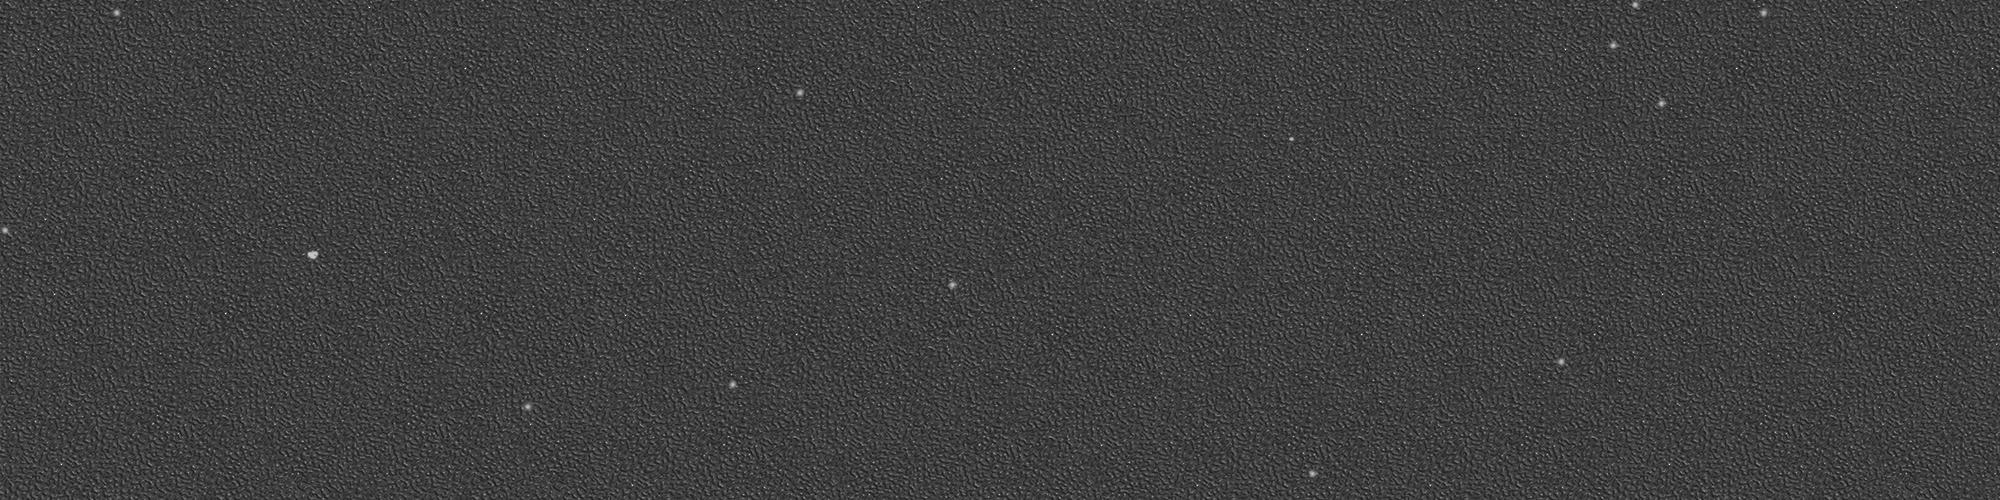Particles: (304, 245, 327, 264), (945, 277, 966, 295), (1554, 351, 1569, 369), (1304, 466, 1323, 480), (1656, 96, 1668, 114), (793, 85, 807, 101), (727, 378, 741, 392), (1608, 38, 1621, 52), (1756, 8, 1770, 19), (523, 401, 534, 412), (112, 8, 122, 19), (1628, 3, 1643, 10), (1286, 135, 1300, 143), (3, 226, 9, 236)
